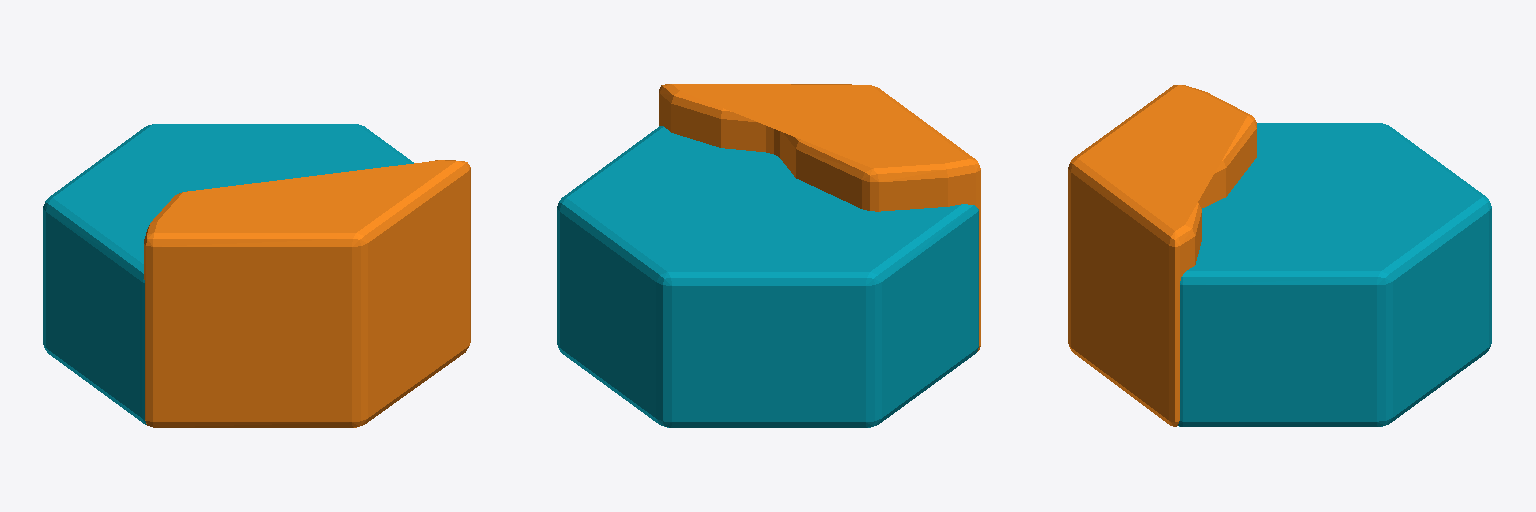
Rendered from sand_water3.obj.
3 renders of one model, left to right at view 1: azimuth 30°, elevation 25°; view 2: azimuth 150°, elevation 25°; view 3: azimuth 270°, elevation 25°, orthographic.
Parts seen in each view (by area): view 1: sand_water3; view 2: sand_water3; view 3: sand_water3.
Part boxes in pixels (left/top/right/bottom): sand_water3: left=43, top=124, right=470, bottom=427; sand_water3: left=557, top=84, right=980, bottom=427; sand_water3: left=1068, top=85, right=1491, bottom=426.
Size of the model in its own units: 6.97 by 4 by 7.9.